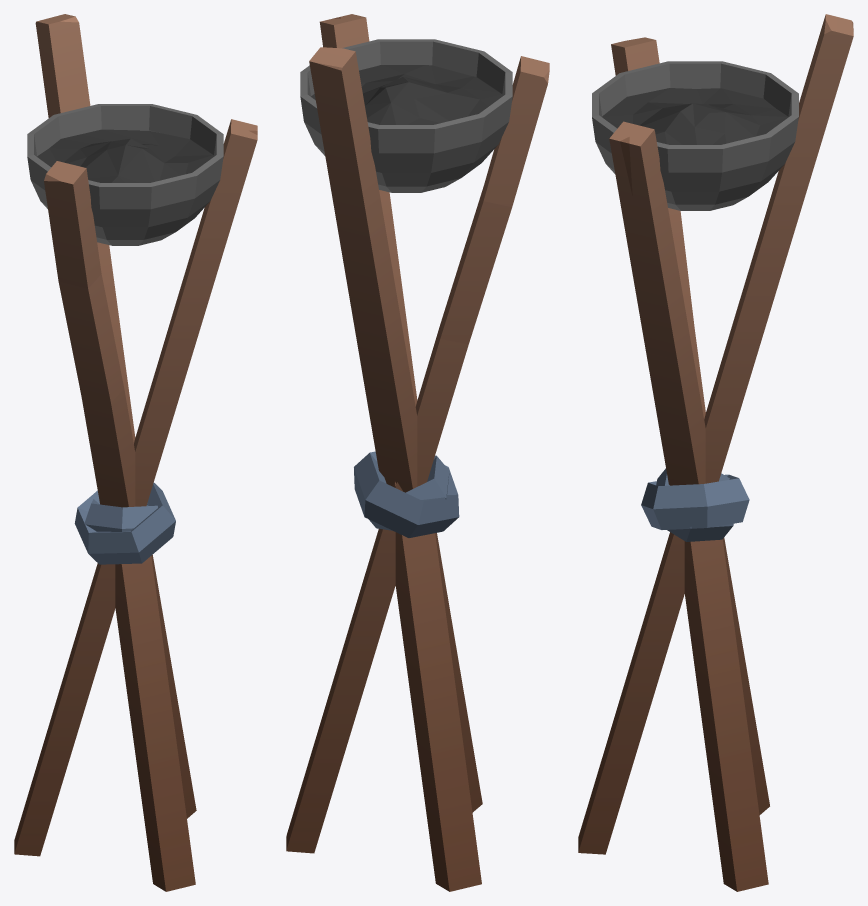
The model's file is Fire_01.fbx.
3 renders of one model, left to right at view 1: azimuth 30°, elevation 25°; view 2: azimuth 150°, elevation 25°; view 3: azimuth 270°, elevation 25°, orthographic. The views are drawn at different scales.
Parts seen in each view (by area): view 1: Fire_01; view 2: Fire_01; view 3: Fire_01.
Boxes of the visible parts, x1=… form: Fire_01: x1=14, y1=14, x2=257, y2=891; Fire_01: x1=286, y1=14, x2=549, y2=891; Fire_01: x1=578, y1=14, x2=853, y2=891.
Size of the model in its own units: 29.12 by 103 by 31.03.
